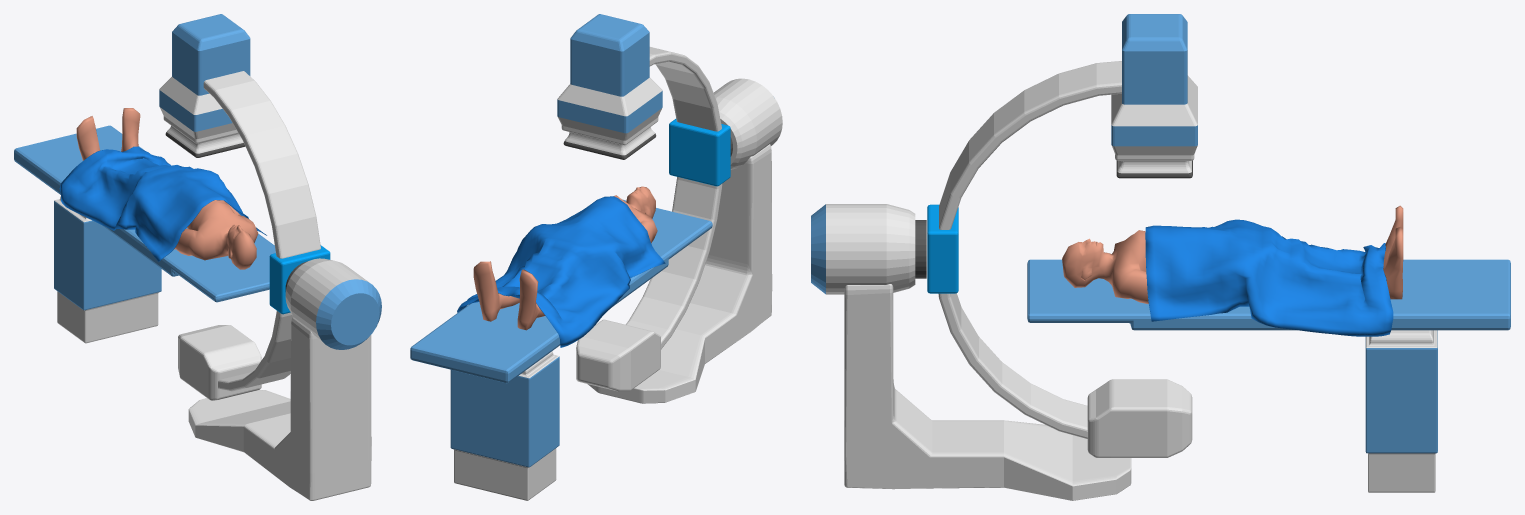
Rendered from bedwhuman_edit.gltf.
The picture shows the model from 3 angles, left to right: view 1: azimuth 30°, elevation 25°; view 2: azimuth 150°, elevation 25°; view 3: azimuth 270°, elevation 25°; orthographic projection. The views are drawn at different scales.
Visible parts, largest first — view 1: Atop.001, overhead_base.001, Plane, bedpole, bed, Cylinder.002, Low Poly Characte.000; view 2: Atop.001, overhead_base.001, Plane, bedpole, bed, Cylinder.002, Low Poly Characte.000; view 3: Atop.001, overhead_base.001, Plane, bed, bedpole, Cylinder.002, Low Poly Characte.000.
Boxes of the visible parts, <box> form: Atop.001: <box>159,14,330,400</box>; overhead_base.001: <box>188,317,371,500</box>; Plane: <box>59,146,266,261</box>; bedpole: <box>54,196,161,343</box>; bed: <box>14,125,275,302</box>; Cylinder.002: <box>285,258,381,349</box>; Low Poly Characte.000: <box>76,108,258,269</box>; Atop.001: <box>557,14,730,391</box>; overhead_base.001: <box>587,144,772,403</box>; Plane: <box>457,196,665,347</box>; bedpole: <box>450,351,559,500</box>; bed: <box>410,199,712,383</box>; Cylinder.002: <box>713,78,782,169</box>; Low Poly Characte.000: <box>473,186,657,330</box>; Atop.001: <box>927,14,1197,457</box>; overhead_base.001: <box>844,284,1131,500</box>; Plane: <box>1145,219,1393,336</box>; bed: <box>1027,259,1510,330</box>; bedpole: <box>1365,330,1437,492</box>; Cylinder.002: <box>811,204,926,294</box>; Low Poly Characte.000: <box>1062,205,1403,304</box>.
Size of the model in its own units: 2.89 by 8.61 by 12.22.
